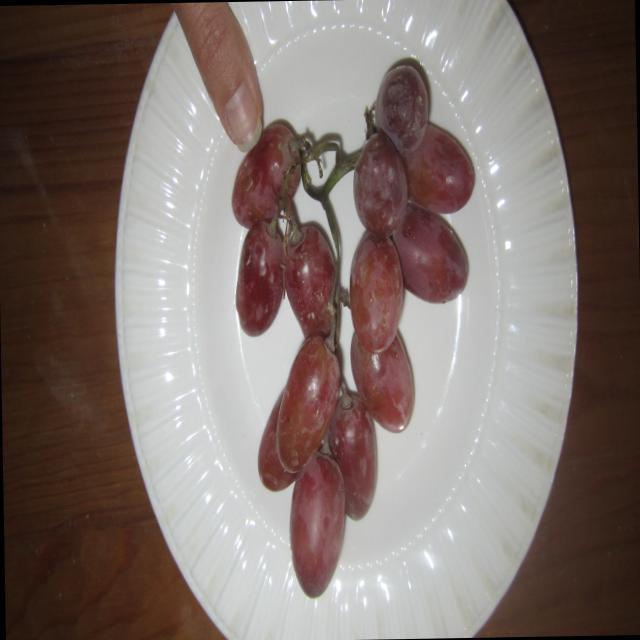Finger: (192, 3, 266, 153)
Grapes: (229, 144, 486, 606)
